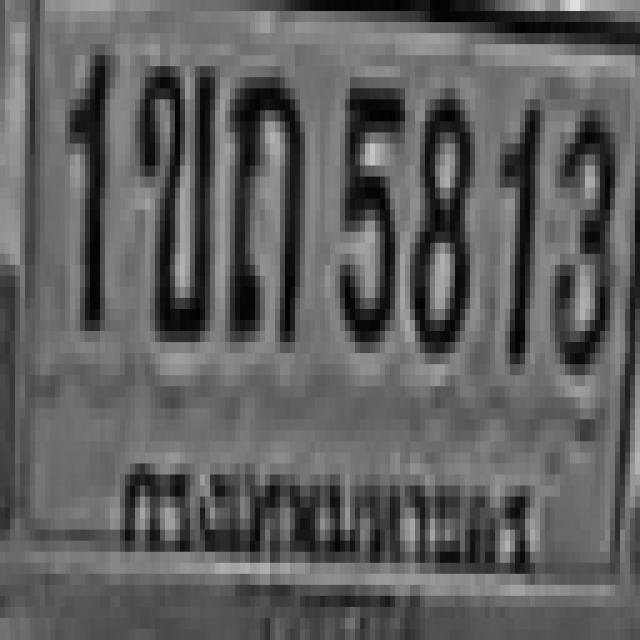1: (65, 33, 111, 331), (498, 94, 538, 371)
11KhorKhai: (135, 56, 213, 346)
3: (548, 99, 616, 374)
31ThorThung: (225, 66, 304, 349)
5: (335, 77, 402, 349)
8: (407, 77, 473, 360)
Bangkok: (106, 438, 537, 596)
